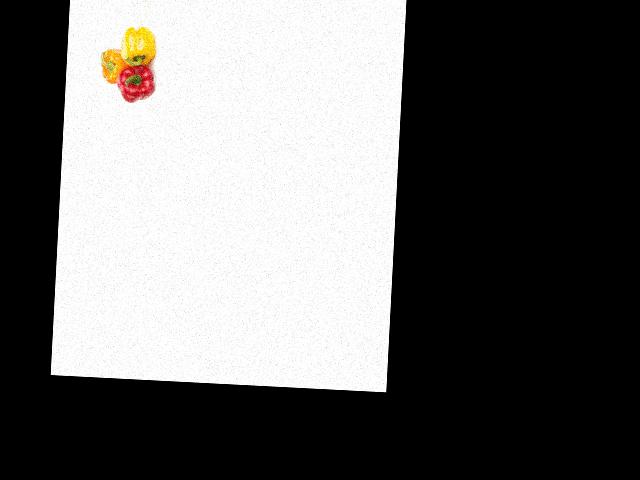bell_pepper: (119, 25, 159, 65)
